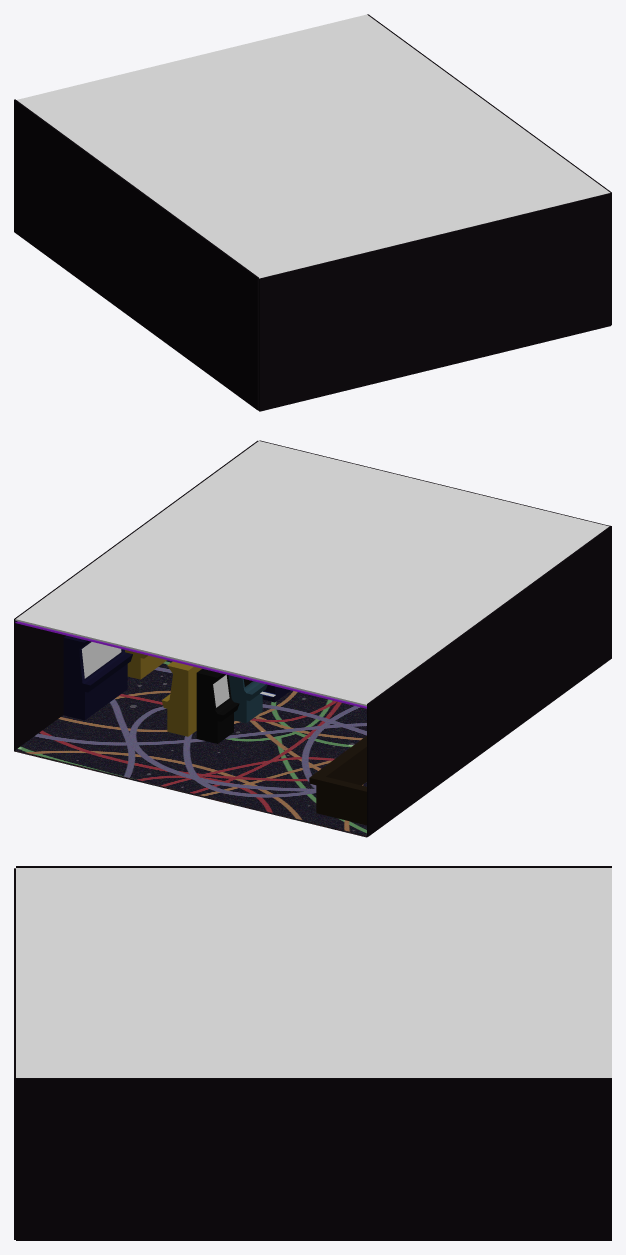
Rendered from arcadethingy (1).fbx.
3 views of the same model, one above another, from view 1: azimuth 30°, elevation 25°; view 2: azimuth 150°, elevation 25°; view 3: azimuth 270°, elevation 25° (orthographic). The views are drawn at different scales.
Visible parts, largest first — view 1: Ceiling, Wall4, Wall2, Wall1; view 2: Ceiling, Wall2, Floor, Wall1, ArcadeMachineWiderTaller, Box001, ArcadeMachine10, ArcadeMachine4, ArcadeMachine7, NeonRingLight, ArcadeMachineWide; view 3: Ceiling, Wall1, Wall2, Wall4.
Boxes of the visible parts, x1,y1,x2,y2 form: Ceiling: (17, 14, 610, 278); Wall4: (259, 193, 611, 411); Wall2: (14, 99, 258, 410); Wall1: (367, 14, 611, 324); Ceiling: (15, 441, 609, 706); Wall2: (367, 525, 611, 836); Floor: (15, 660, 367, 837); Wall1: (14, 440, 258, 751); ArcadeMachineWiderTaller: (63, 635, 132, 720); Box001: (309, 736, 366, 825); ArcadeMachine10: (196, 669, 239, 743); ArcadeMachine4: (161, 661, 201, 736); ArcadeMachine7: (228, 675, 267, 723); NeonRingLight: (15, 621, 366, 708); ArcadeMachineWide: (125, 650, 166, 679); Ceiling: (16, 868, 611, 1077); Wall1: (16, 1078, 611, 1240); Wall2: (16, 866, 611, 867); Wall4: (14, 868, 15, 1239).
Size of the model in its own units: 1260 by 454 by 1505.
16 materials, 1 textured.
